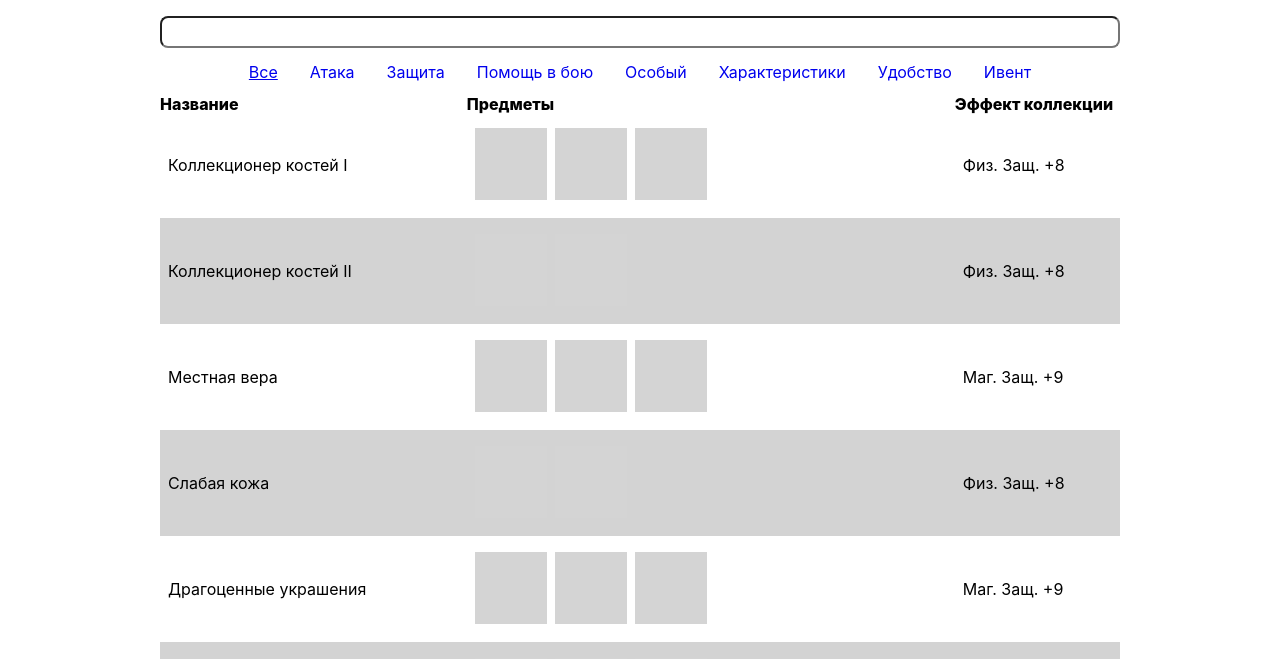
navigation › filter text › filter nothing
In the search field with test id "filter": (640, 32) left=160, top=16, right=1120, bottom=48, type "whatever"
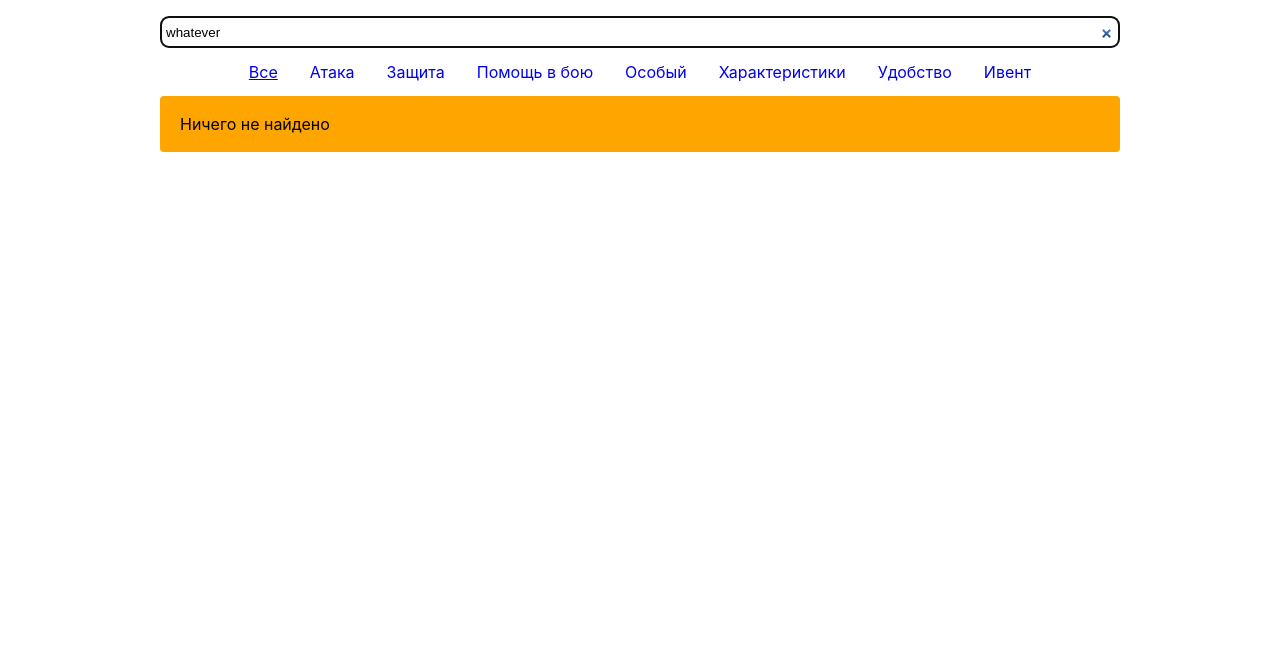
Result: the text with test id "notification" reads "Ничего не найдено" at left=180, top=114, right=330, bottom=134
